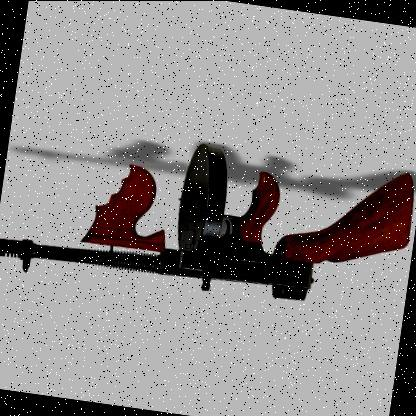rifle: (0, 96, 416, 343)
